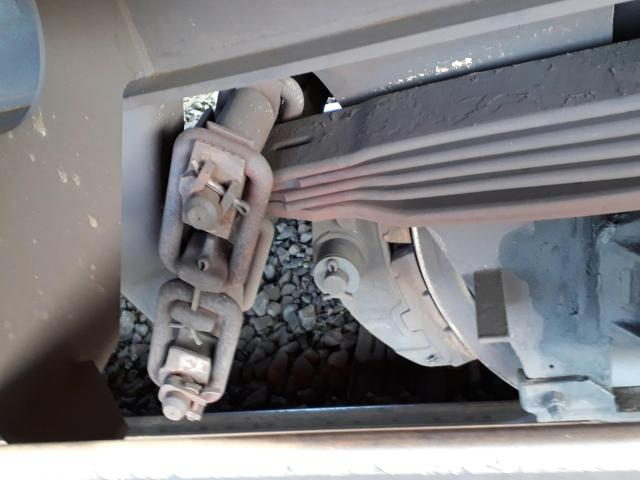blattfederww: (204, 108, 640, 223)
